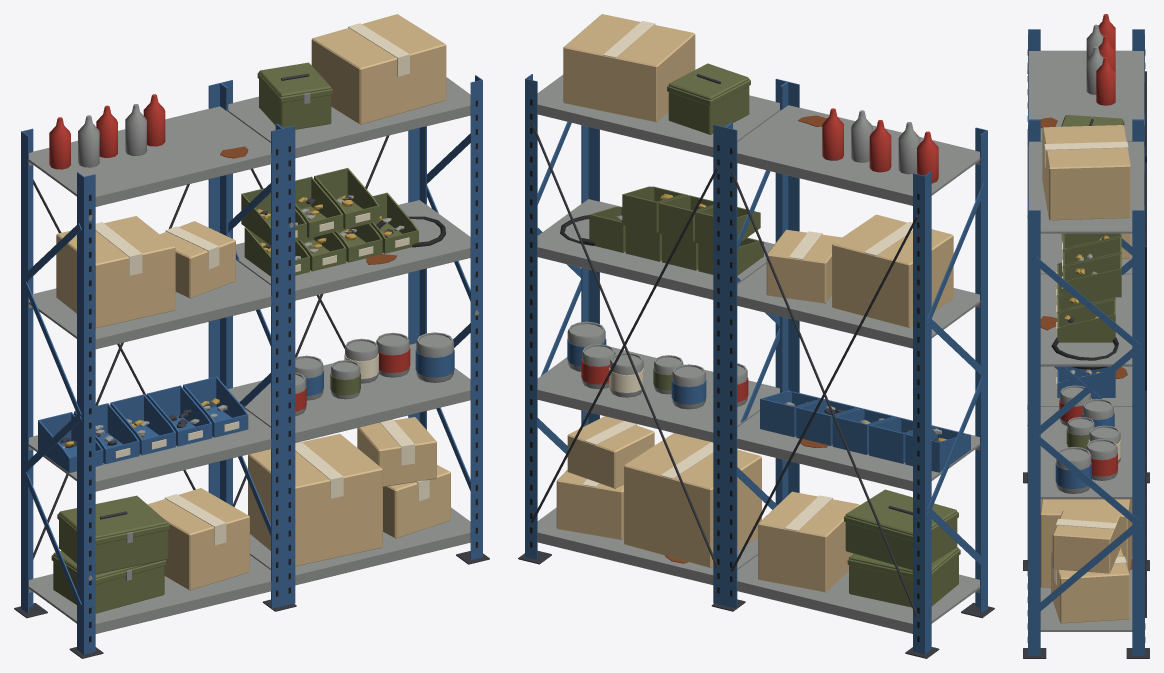
The model's file is deco_shelf_metal.fbx.
The picture shows the model from 3 angles, left to right: view 1: azimuth 30°, elevation 25°; view 2: azimuth 150°, elevation 25°; view 3: azimuth 270°, elevation 25°; orthographic projection. The views are drawn at different scales.
Parts seen in each view (by area): view 1: Shelf_Metal_Boxes, Shelf_Metal_Decks, Shelf_Metal_Uprights, Shelf_Metal_Bins, Shelf_Metal_Cans, Shelf_Metal_Braces, Shelf_Metal_Perforations; view 2: Shelf_Metal_Boxes, Shelf_Metal_Decks, Shelf_Metal_Uprights, Shelf_Metal_Bins, Shelf_Metal_Cans, Shelf_Metal_Braces, Shelf_Metal_Perforations; view 3: Shelf_Metal_Decks, Shelf_Metal_Boxes, Shelf_Metal_Uprights, Shelf_Metal_Bins, Shelf_Metal_Cans, Shelf_Metal_Braces, Shelf_Metal_Perforations, Shelf_Metal_Wear, Shelf_Metal_CableCoil.
Part boxes in pixels (left/top/right/bottom): Shelf_Metal_Boxes: left=51, top=14, right=450, bottom=613; Shelf_Metal_Decks: left=28, top=77, right=470, bottom=633; Shelf_Metal_Uprights: left=14, top=75, right=489, bottom=658; Shelf_Metal_Bins: left=38, top=168, right=418, bottom=472; Shelf_Metal_Cans: left=49, top=94, right=454, bottom=415; Shelf_Metal_Braces: left=22, top=133, right=470, bottom=607; Shelf_Metal_Perforations: left=89, top=100, right=477, bottom=642; Shelf_Metal_Boxes: left=556, top=14, right=960, bottom=607; Shelf_Metal_Decks: left=537, top=75, right=980, bottom=633; Shelf_Metal_Uprights: left=518, top=74, right=994, bottom=658; Shelf_Metal_Bins: left=589, top=186, right=970, bottom=472; Shelf_Metal_Cans: left=567, top=108, right=938, bottom=409; Shelf_Metal_Braces: left=531, top=121, right=986, bottom=616; Shelf_Metal_Perforations: left=530, top=99, right=919, bottom=642; Shelf_Metal_Decks: left=1028, top=50, right=1144, bottom=631; Shelf_Metal_Boxes: left=1040, top=115, right=1132, bottom=623; Shelf_Metal_Uprights: left=1023, top=29, right=1149, bottom=658; Shelf_Metal_Bins: left=1056, top=233, right=1121, bottom=397; Shelf_Metal_Cans: left=1055, top=14, right=1121, bottom=493; Shelf_Metal_Braces: left=1031, top=71, right=1146, bottom=617; Shelf_Metal_Perforations: left=1027, top=49, right=1145, bottom=642; Shelf_Metal_Wear: left=1027, top=68, right=1132, bottom=569; Shelf_Metal_CableCoil: left=1051, top=337, right=1118, bottom=369.
Size of the model in its own units: 225 by 270 by 65.
